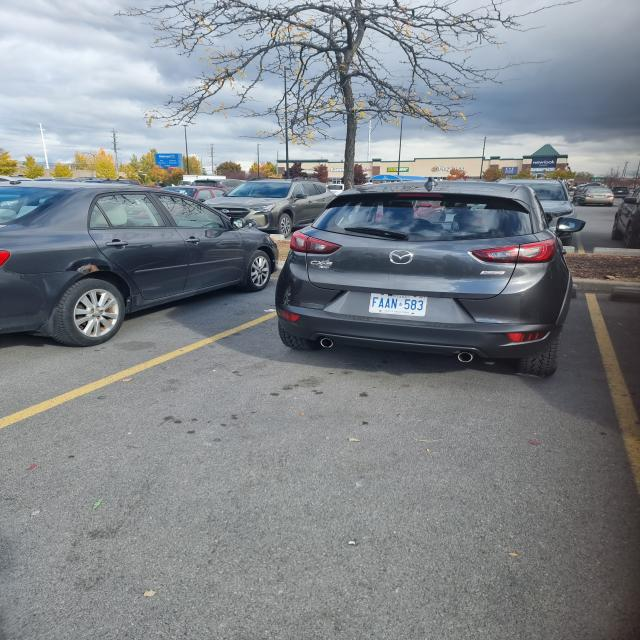plaque: (369, 294, 426, 316), (595, 195, 605, 198)
